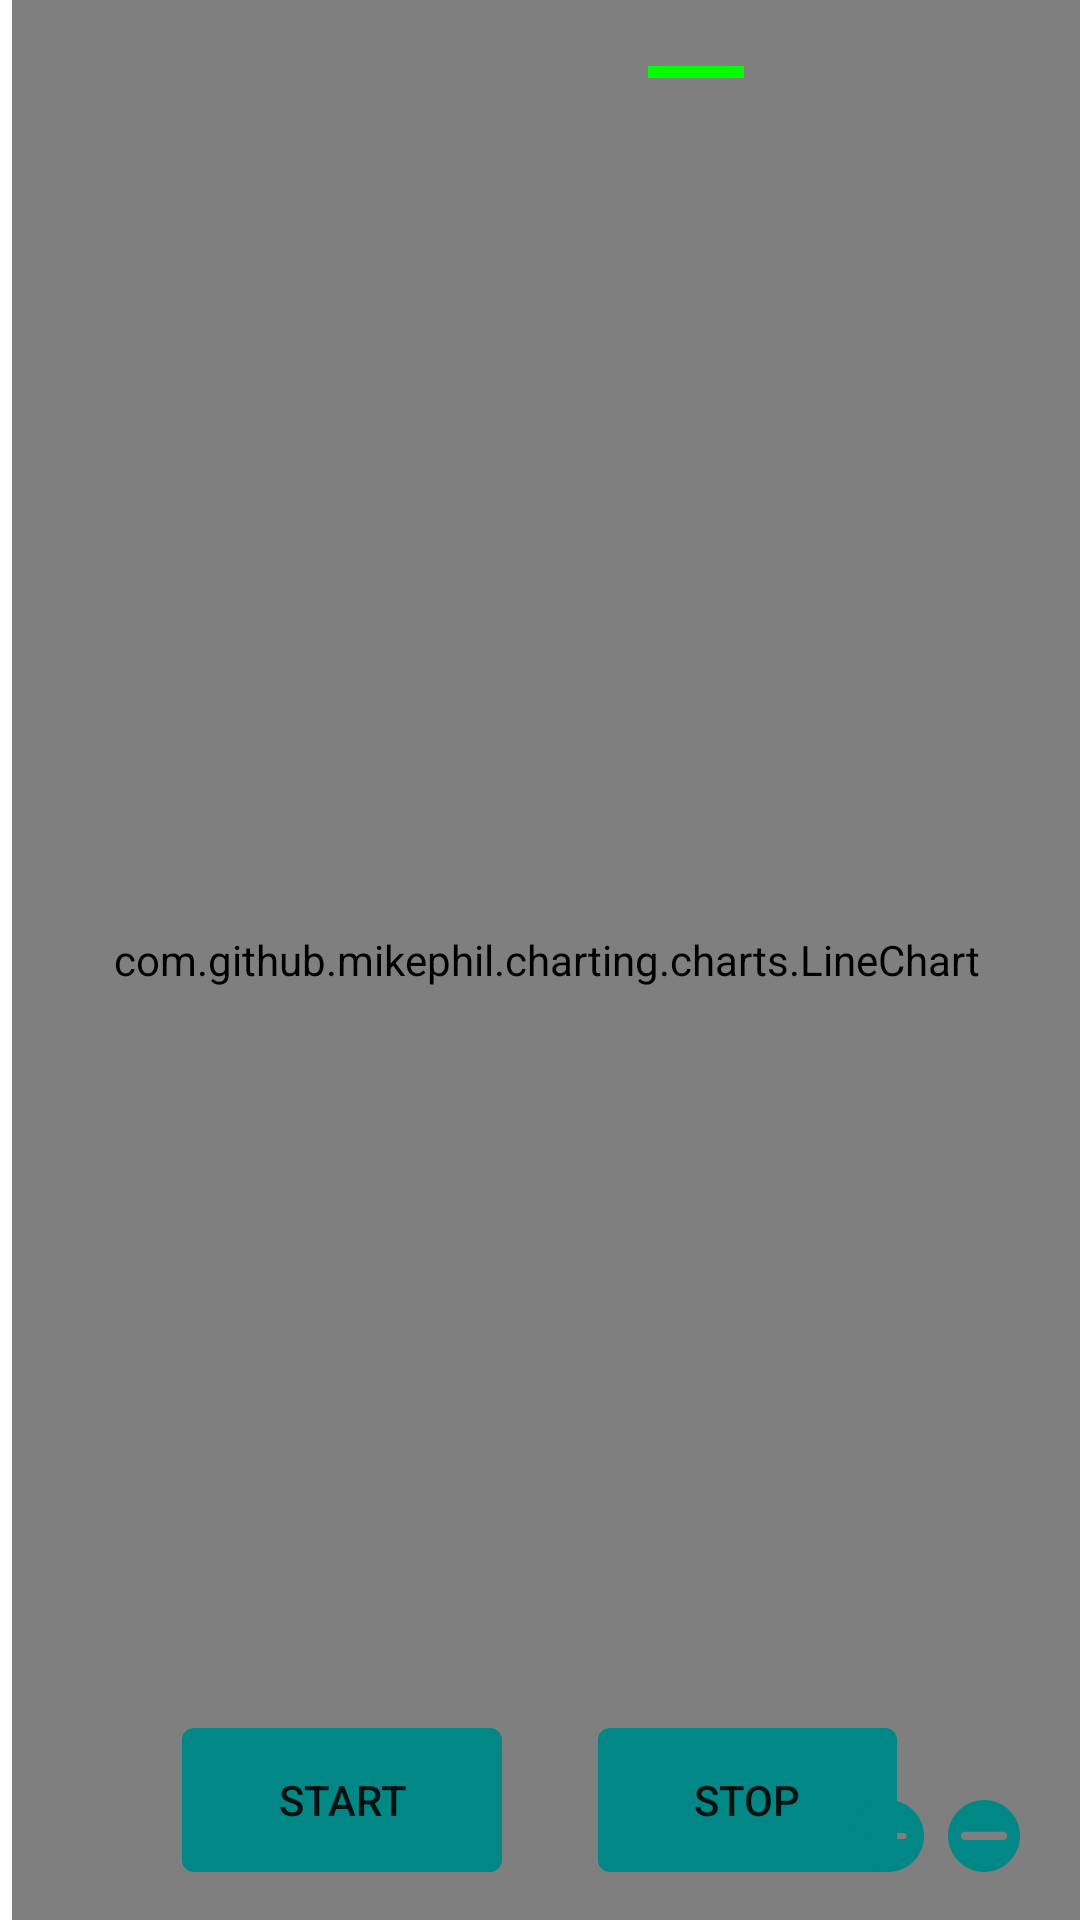

Icon click points for this 1080px×1920px phone screenshot, format (x=x, y=y):
minus: (x=984, y=1836)
